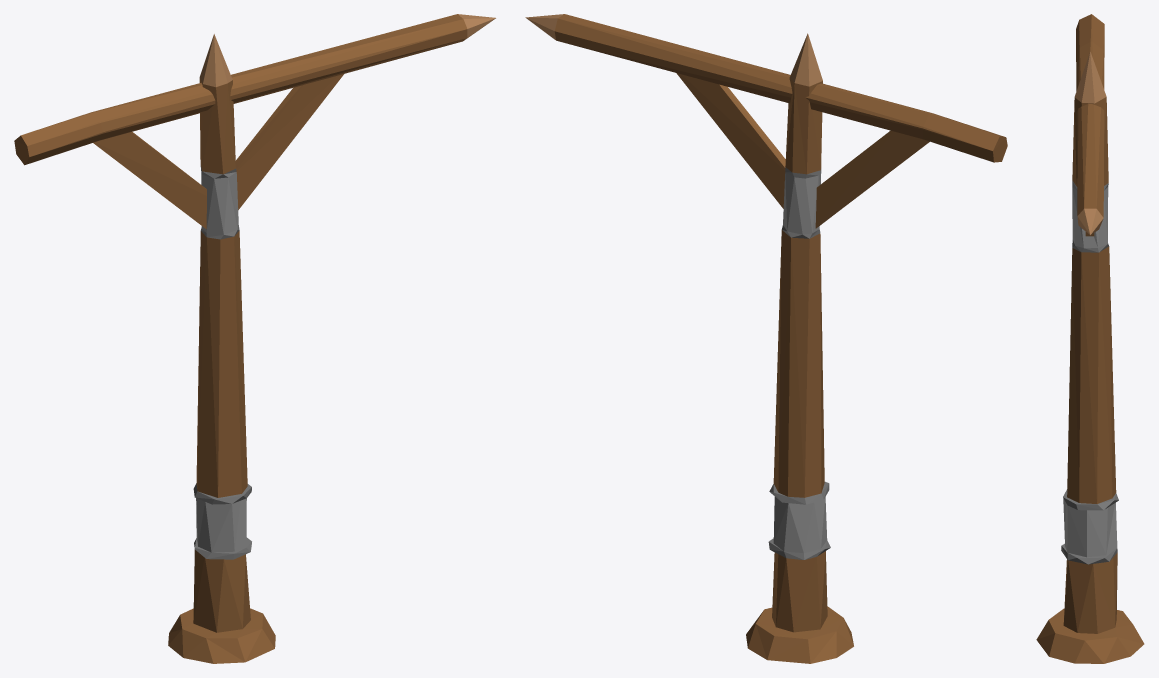
The model's file is LPCP_Hanging05.fbx.
The picture shows the model from 3 angles, left to right: view 1: azimuth 30°, elevation 25°; view 2: azimuth 150°, elevation 25°; view 3: azimuth 270°, elevation 25°; orthographic projection. The views are drawn at different scales.
Visible parts, largest first — view 1: LPCP_Hanging05; view 2: LPCP_Hanging05; view 3: LPCP_Hanging05.
Boxes of the visible parts, box(x1,y1,x2,y2) form: LPCP_Hanging05: box(14, 14, 495, 663); LPCP_Hanging05: box(525, 14, 1007, 663); LPCP_Hanging05: box(1036, 14, 1144, 663).
Bounding box in the file's own units: 10.12 × 12.42 × 2.07.
